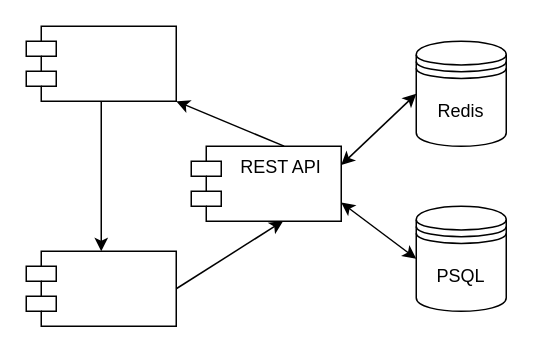
Image size: 533x353. Some labels were removed from this diagram. The shapes that lost their labels are listed below. From the top down, each one's centre as x and y in pixels, then its label:
At (x=100, y=63): "WEB-UI".
At (x=100, y=288): "RabbitMQ".
